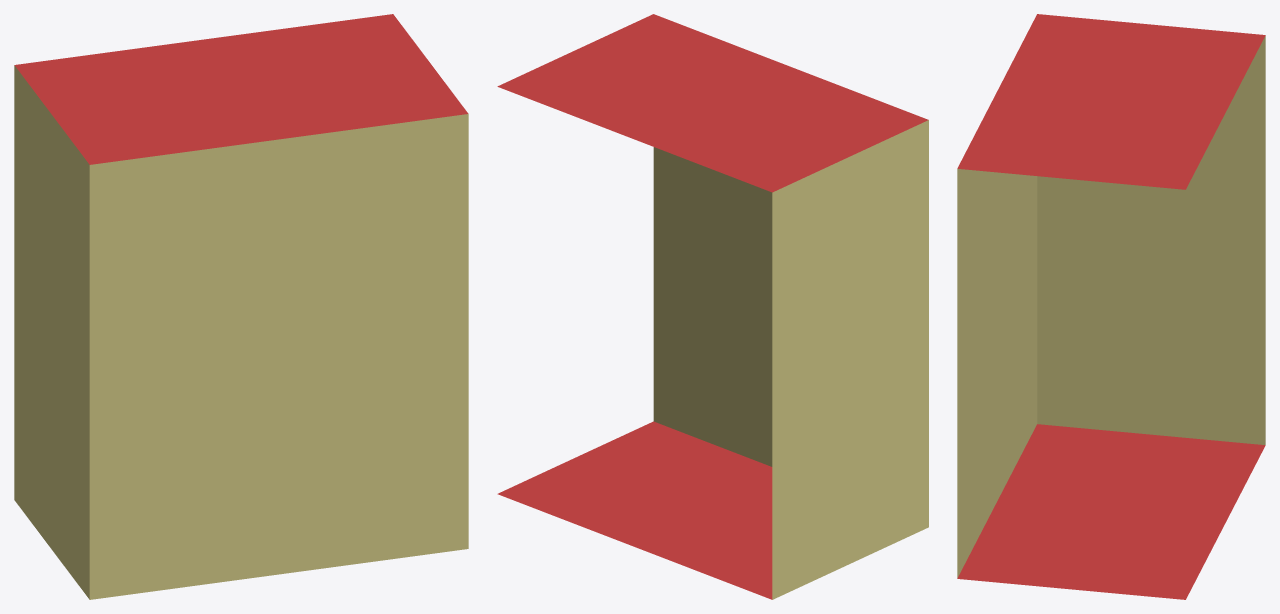
3 renders of one model, left to right at view 1: azimuth 30°, elevation 25°; view 2: azimuth 150°, elevation 25°; view 3: azimuth 270°, elevation 25°, orthographic. The views are drawn at different scales.
Size of the model in its own units: 4.32 by 3.21 by 4.7.
